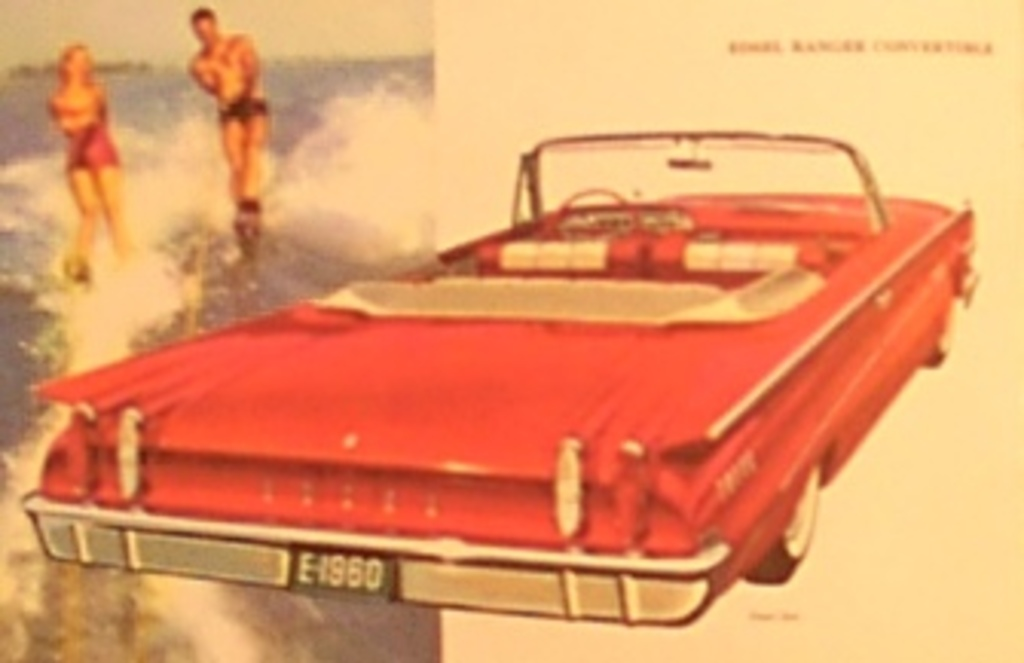Car: (3, 97, 1024, 663)
